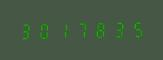eight: (89, 19, 106, 39)
five: (125, 19, 142, 38)
one: (53, 20, 70, 40)
seven: (71, 20, 88, 39)
three: (107, 19, 124, 39), (17, 21, 34, 40)
zero: (35, 20, 52, 40)
